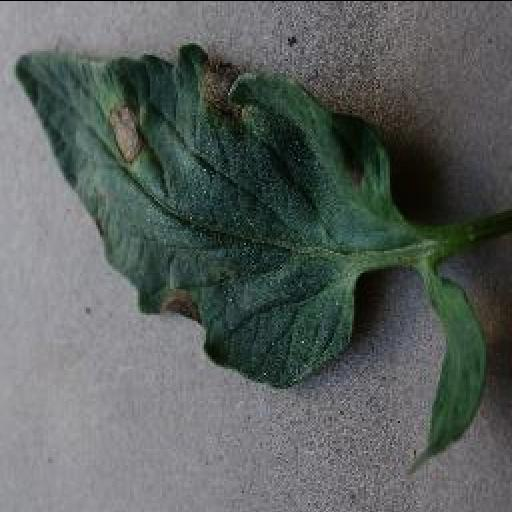disease_tomato: (14, 42, 394, 386)
